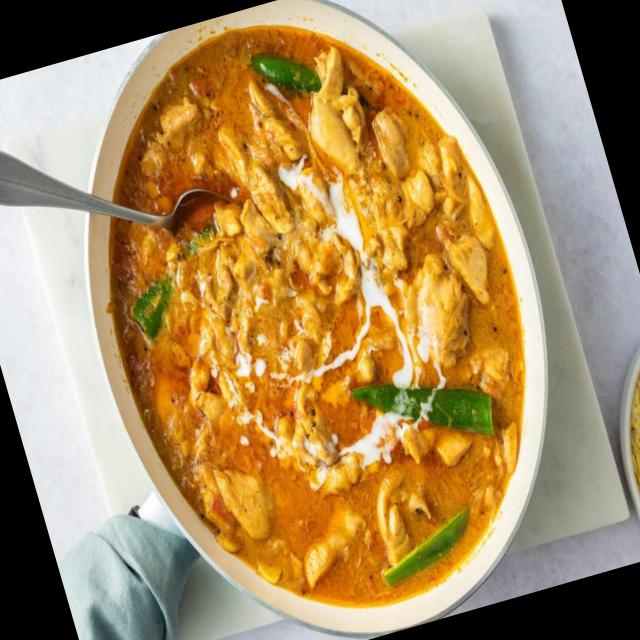chicken: (102, 48, 530, 603)
